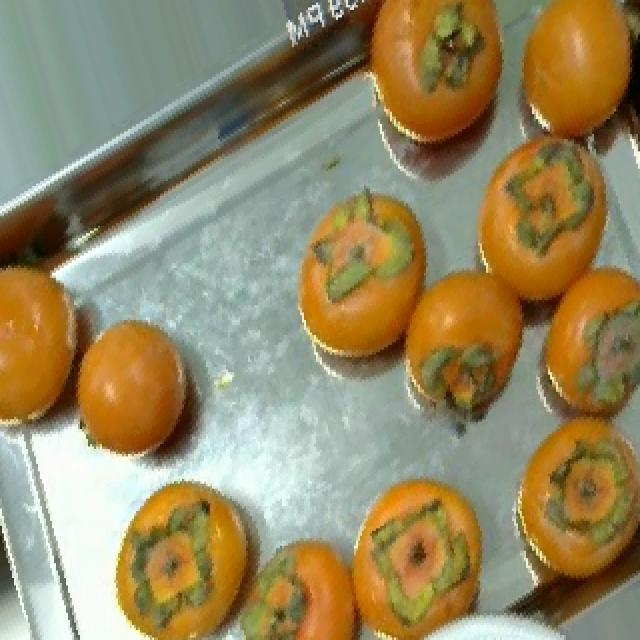Fruit: (382, 248, 562, 452), (106, 459, 284, 640), (58, 295, 222, 491), (348, 464, 504, 640), (504, 0, 638, 164)
